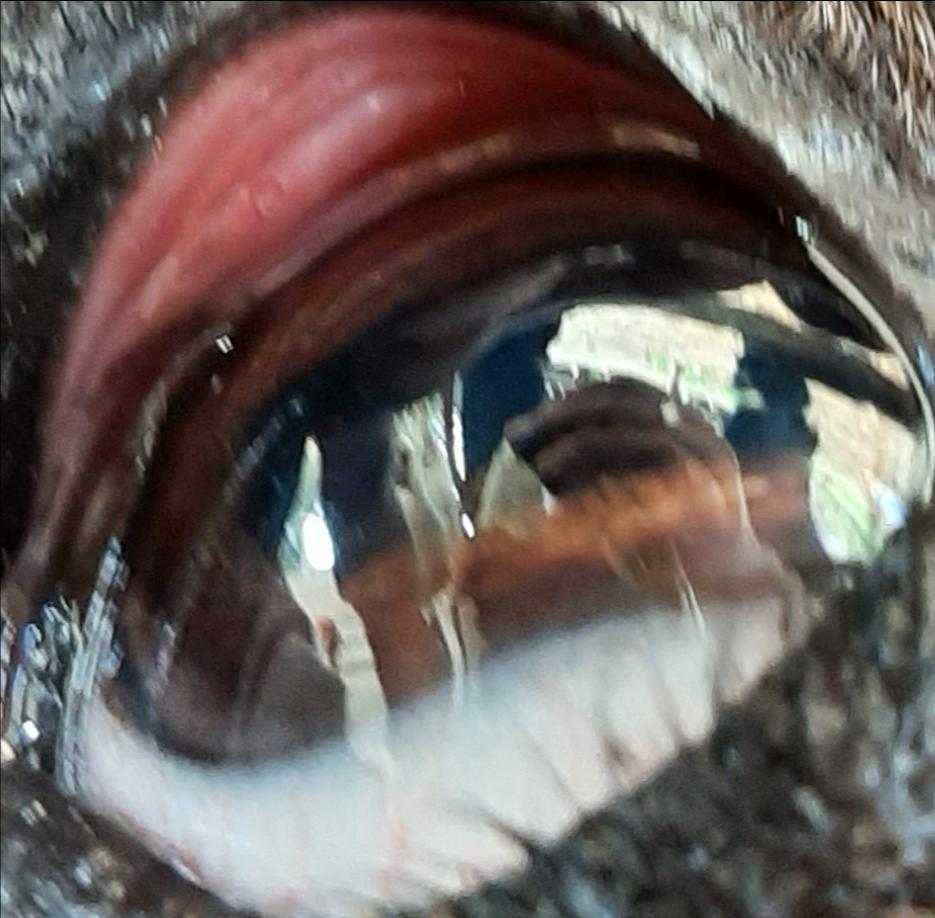eye_membrane: (46, 15, 631, 418)
